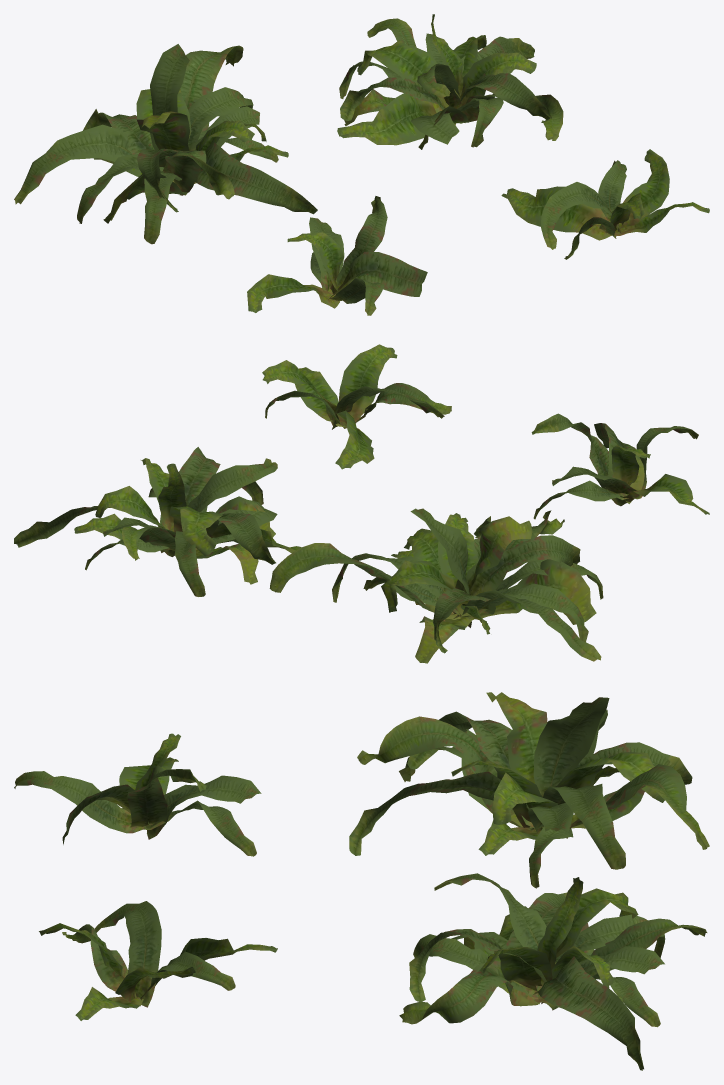
The model's file is fern_02.glb.
3 views of the same model, one above another, from view 1: azimuth 30°, elevation 25°; view 2: azimuth 150°, elevation 25°; view 3: azimuth 270°, elevation 25° (orthographic). The views are drawn at different scales.
Visible parts, largest first — view 1: fern_02_b, fern_02_c, fern_02_d, fern_02_a; view 2: fern_02_b, fern_02_c, fern_02_d, fern_02_a; view 3: fern_02_b, fern_02_c, fern_02_a, fern_02_d.
Boxes of the visible parts, x1,y1,x2,y2 form: fern_02_b: [14, 44, 317, 244]; fern_02_c: [337, 14, 563, 149]; fern_02_d: [501, 149, 709, 259]; fern_02_a: [247, 196, 427, 315]; fern_02_b: [269, 508, 603, 663]; fern_02_c: [14, 447, 300, 596]; fern_02_d: [262, 344, 451, 469]; fern_02_a: [531, 413, 709, 519]; fern_02_b: [349, 692, 709, 888]; fern_02_c: [399, 873, 707, 1070]; fern_02_a: [14, 733, 261, 856]; fern_02_d: [39, 901, 277, 1020].
Bounding box in the file's own units: 1.97 × 0.4277 × 1.72.
1 material, 1 textured.
